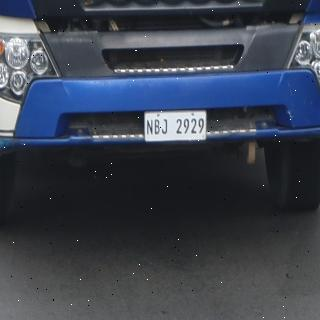license: (145, 111, 207, 143)
